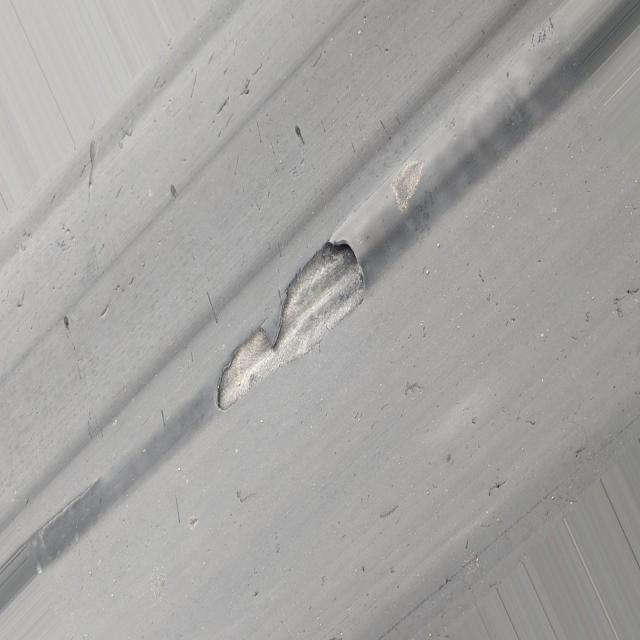Tear: (201, 216, 379, 428)
impact damage: (28, 127, 458, 589)
